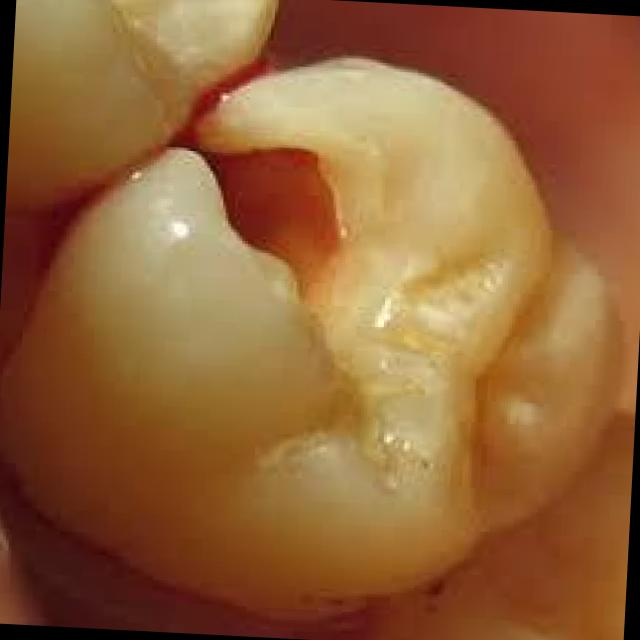Cavity: (202, 146, 338, 304)
Tooth: (0, 53, 630, 619)
